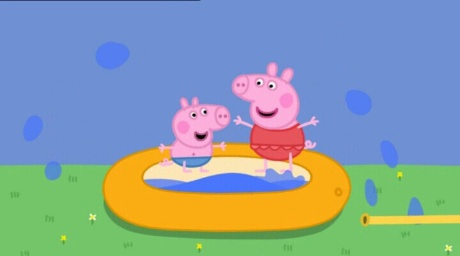Peppa: (232, 61, 320, 176)
